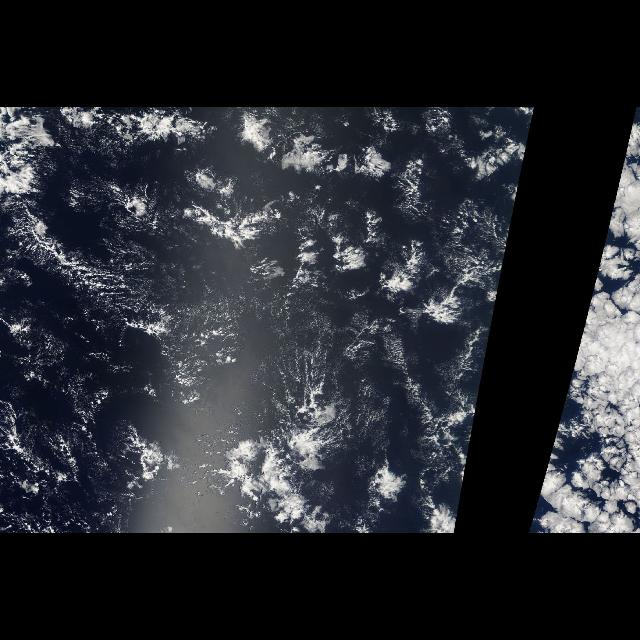Flower: (104, 109, 532, 532), (530, 123, 636, 531)
Sugar: (10, 185, 342, 418)
